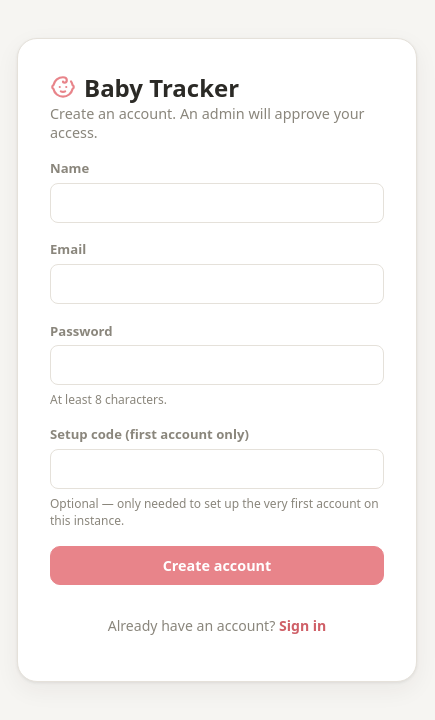
Scenario: RegisterPage › shows the API error message on failure
This screenshot has width=435, height=720.
Type "  Tester  " into the field labelled "Name" at [217, 203], box [50,183,384,223]
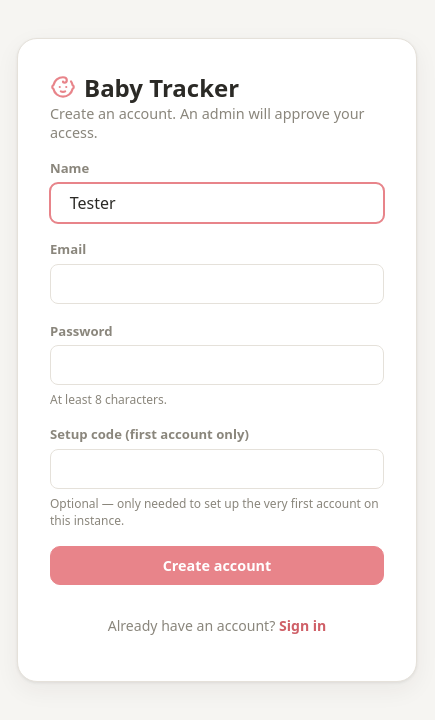
Type "t@t.com" into the field labelled "Email" at [217, 284], box [50,264,384,304]
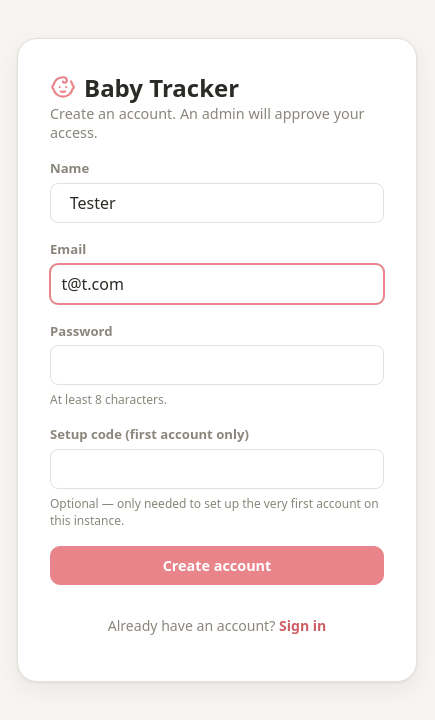
Type "secret1234" into the password field labelled "Password" at [217, 365], box [50,345,384,385]
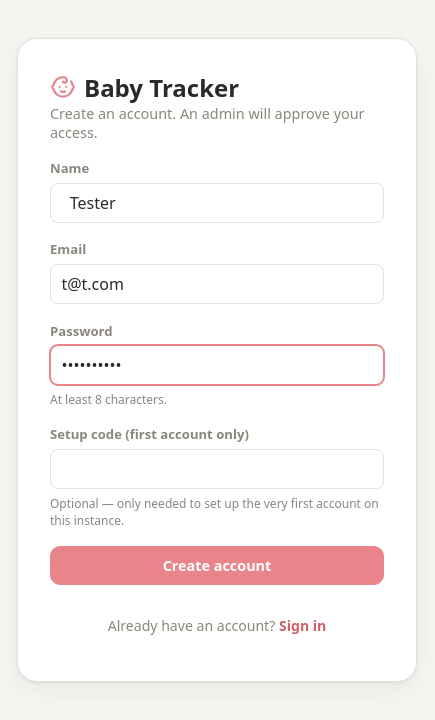
Type " bumblebee " into the field labelled "Setup code (first account only)" at [217, 469], box [50,449,384,489]
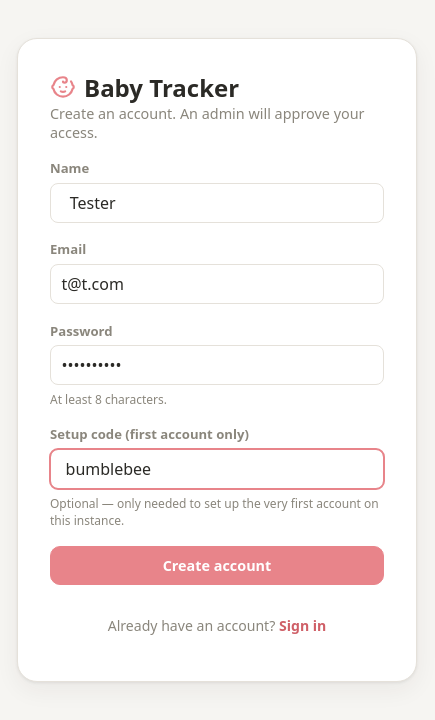
Click the button "Create account" at [217, 565], box [50,546,384,585]
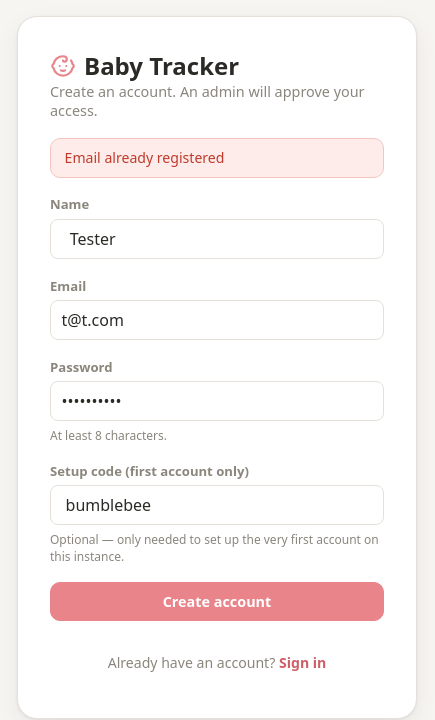
Expected: the text "Email already registered" is shown, [50,138,384,178]
